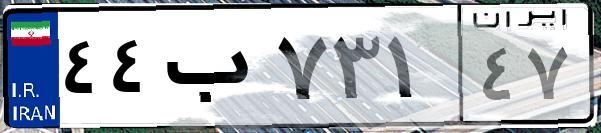1: (385, 28, 445, 110)
3: (330, 28, 385, 110)
4: (57, 26, 110, 100), (475, 38, 525, 113), (110, 28, 158, 98)
7: (270, 28, 330, 110), (525, 38, 570, 115)
ب: (158, 20, 270, 120)
